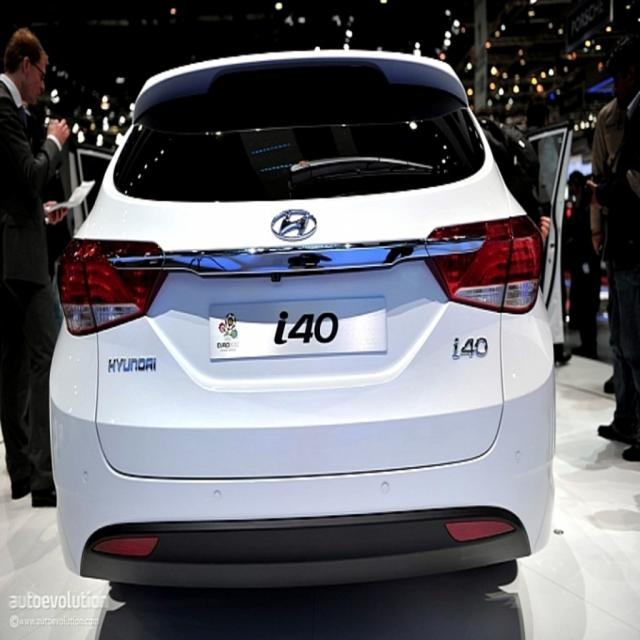car: (48, 44, 576, 606)
